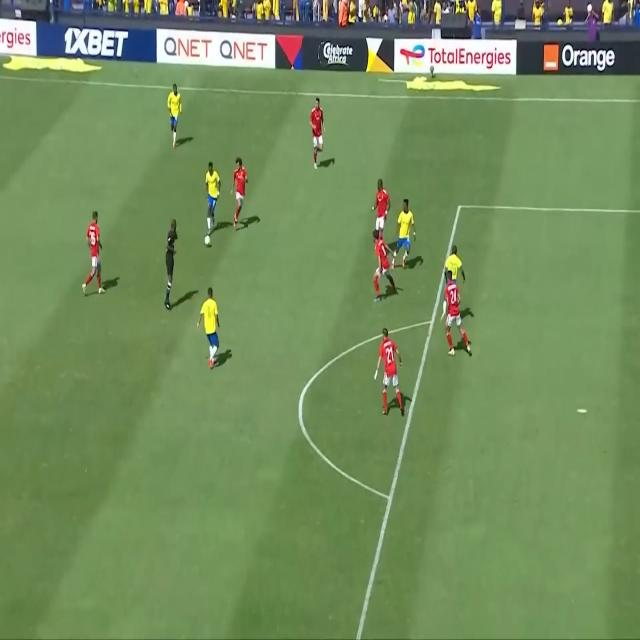Ball: (202, 235, 212, 248)
Player: (371, 321, 409, 424), (438, 272, 471, 352), (369, 224, 401, 305), (79, 208, 106, 299), (197, 286, 224, 368), (441, 246, 466, 324), (230, 148, 252, 232), (306, 88, 328, 170), (393, 197, 416, 268), (202, 159, 222, 235), (168, 82, 184, 154), (373, 177, 390, 242)
Ref: (166, 221, 180, 311)
